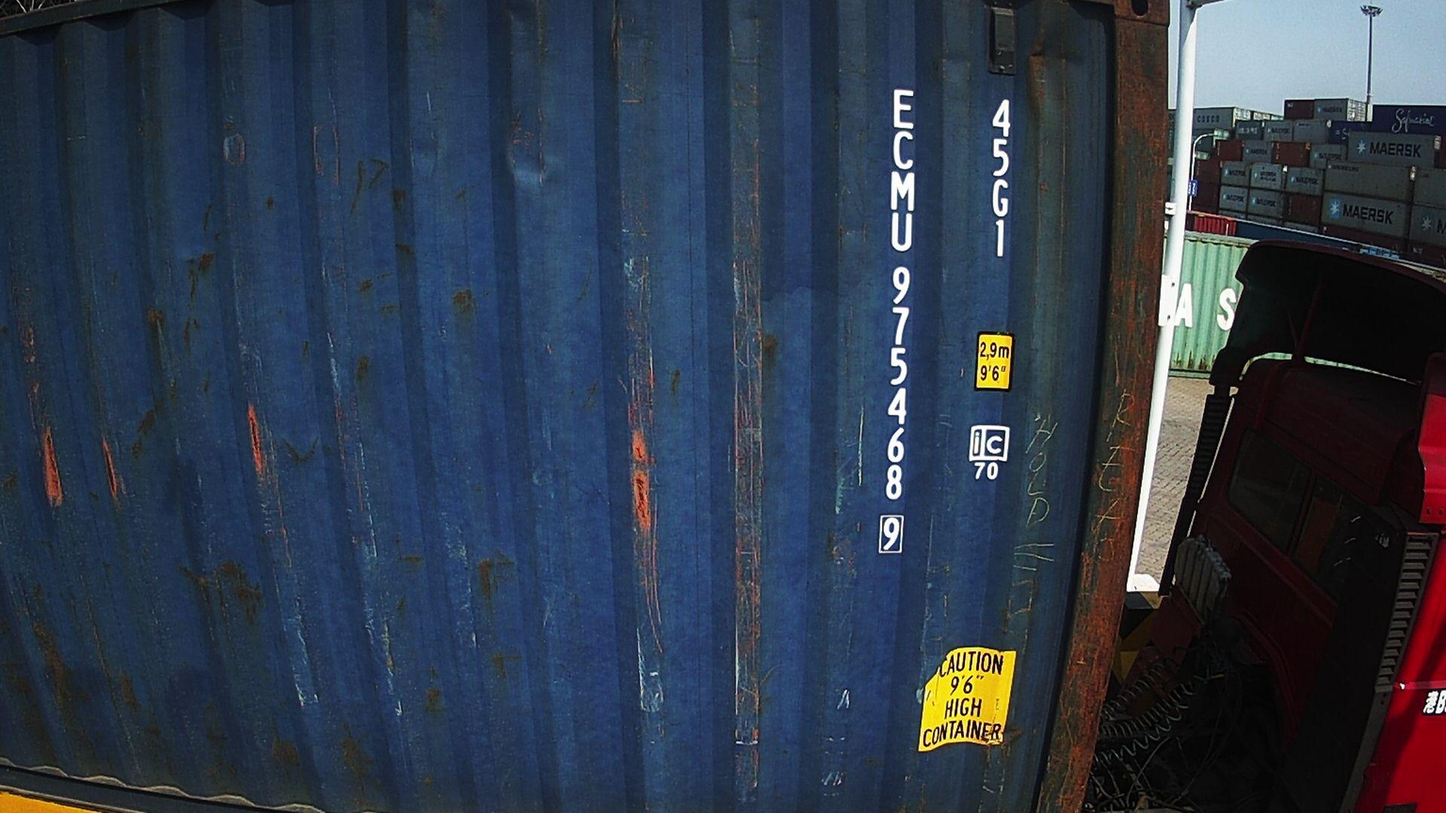container-numbers: (874, 82, 921, 562), (987, 93, 1016, 262)
